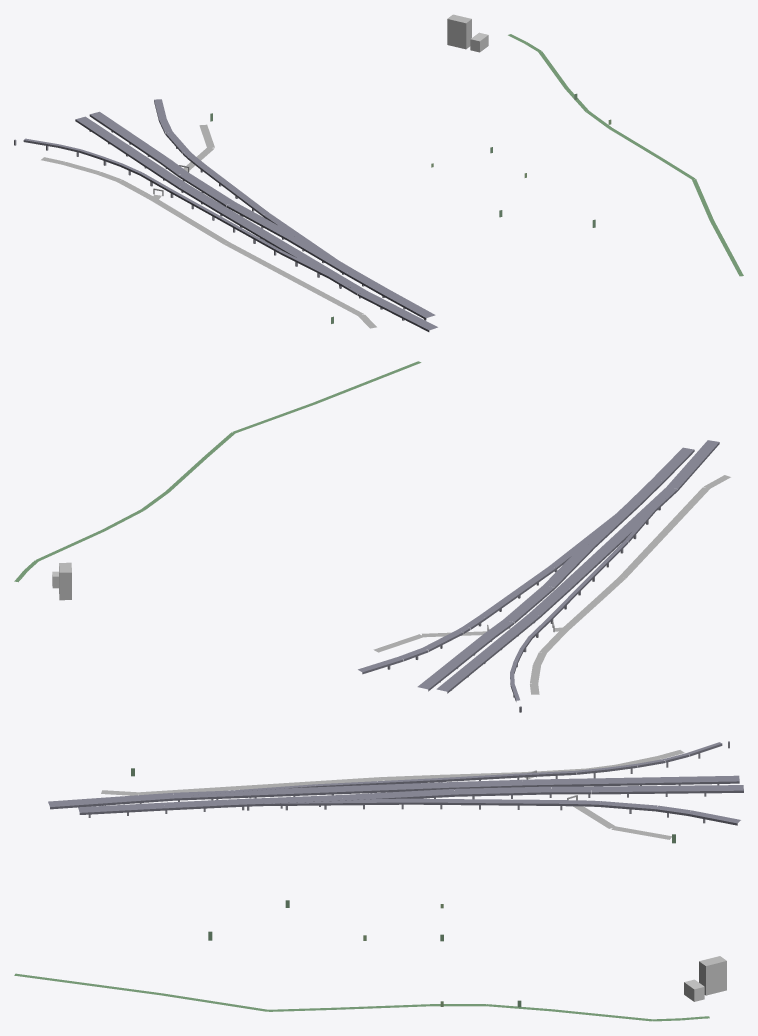
The picture shows the model from 3 angles, top to bottom: view 1: azimuth 30°, elevation 25°; view 2: azimuth 150°, elevation 25°; view 3: azimuth 270°, elevation 25°; orthographic projection. The views are drawn at different scales.
Size of the model in its own units: 501 by 25.41 by 567.
